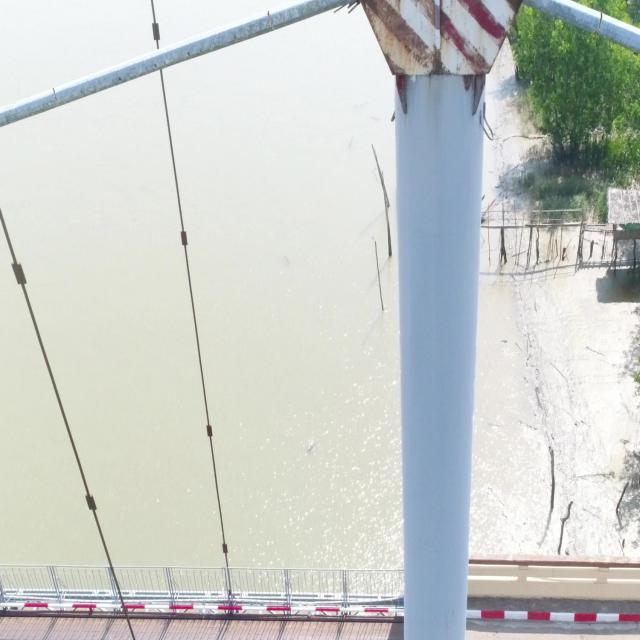crack: (267, 10, 275, 31), (596, 11, 603, 35), (52, 88, 59, 106)
